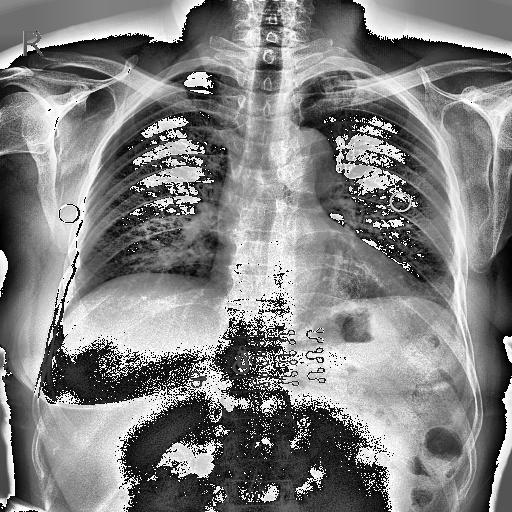0- Aortic enlargement: (279, 123, 337, 188), (279, 126, 334, 192), (280, 124, 332, 192)
3- Cardiomegaly: (208, 244, 427, 304), (208, 259, 416, 313), (212, 252, 422, 302)
